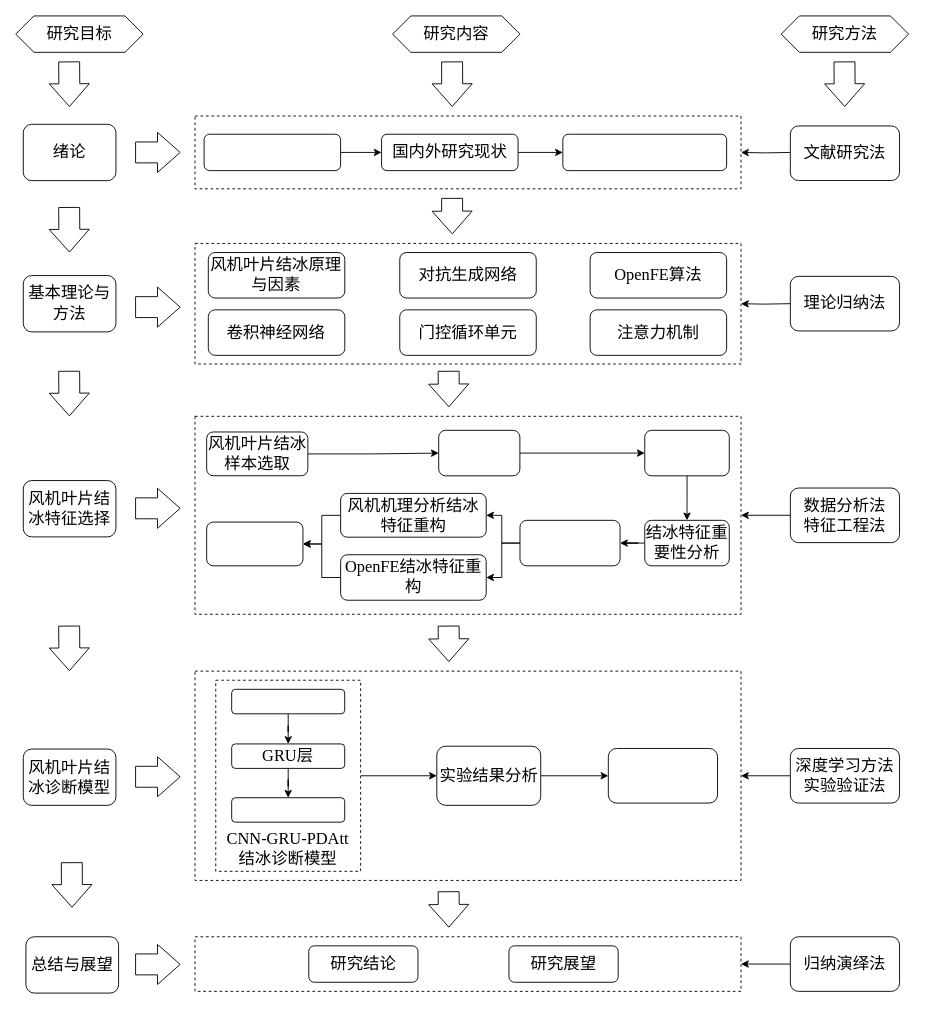
This 925x1009 diagram has some shape labels left out. The shapes that lost their labels are listed below. From the top down, each one's centre as x and y in pixels, then its label:
At pixel 272 152: "研究背景与意义".
At pixel 644 152: "提出解决方案".
At pixel 479 452: "归一化".
At pixel 686 452: "结冰特征相关性分析".
At pixel 254 543: "选择的结冰特征".
At pixel 569 542: "改进 GAN 的样本均衡化".
At pixel 288 701: "CNN 层".
At pixel 662 775: "A公司风机叶片维护建议".
At pixel 288 809: "PDAtt 层".
